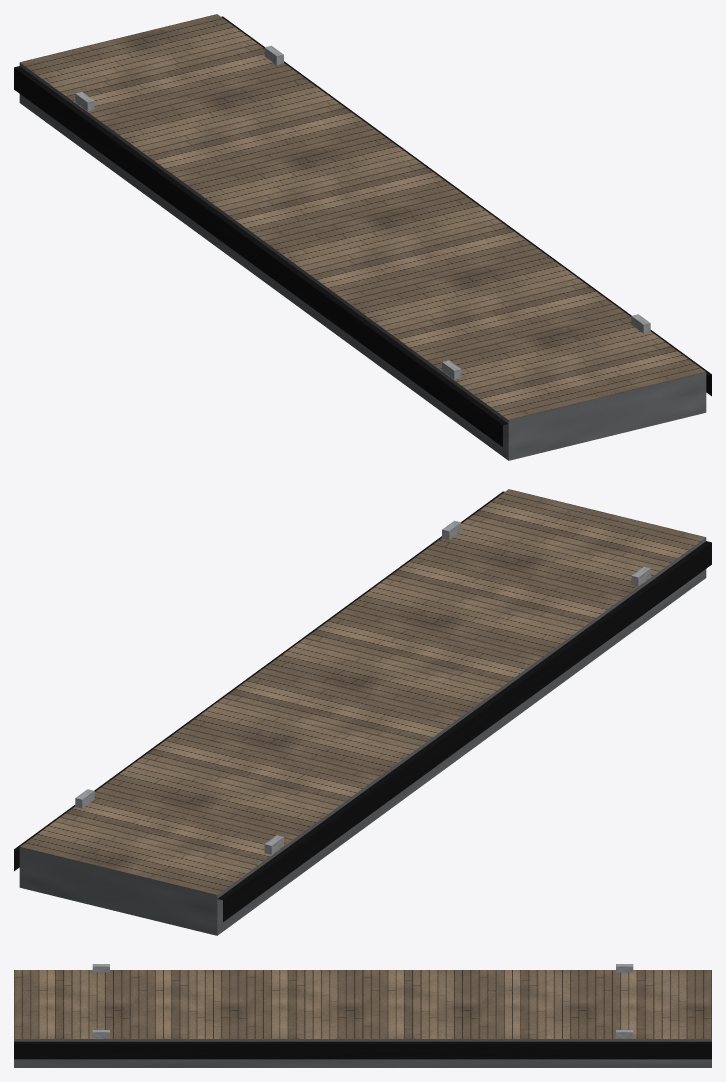
File: SM_Morin_Marina_Pontile12_LOD2.fbx
The picture shows the model from 3 angles, top to bottom: view 1: azimuth 30°, elevation 25°; view 2: azimuth 150°, elevation 25°; view 3: azimuth 270°, elevation 25°; orthographic projection. The views are drawn at different scales.
Parts seen in each view (by area): view 1: SM_Morin_Marina_Pontile12_LOD2; view 2: SM_Morin_Marina_Pontile12_LOD2; view 3: SM_Morin_Marina_Pontile12_LOD2.
Boxes of the visible parts, x1=… form: SM_Morin_Marina_Pontile12_LOD2: x1=14, y1=14, x2=711, y2=460; SM_Morin_Marina_Pontile12_LOD2: x1=14, y1=489, x2=711, y2=935; SM_Morin_Marina_Pontile12_LOD2: x1=14, y1=964, x2=711, y2=1067.
Bounding box in the file's own units: 296 × 1200 × 67.
2 materials, 2 textured.
